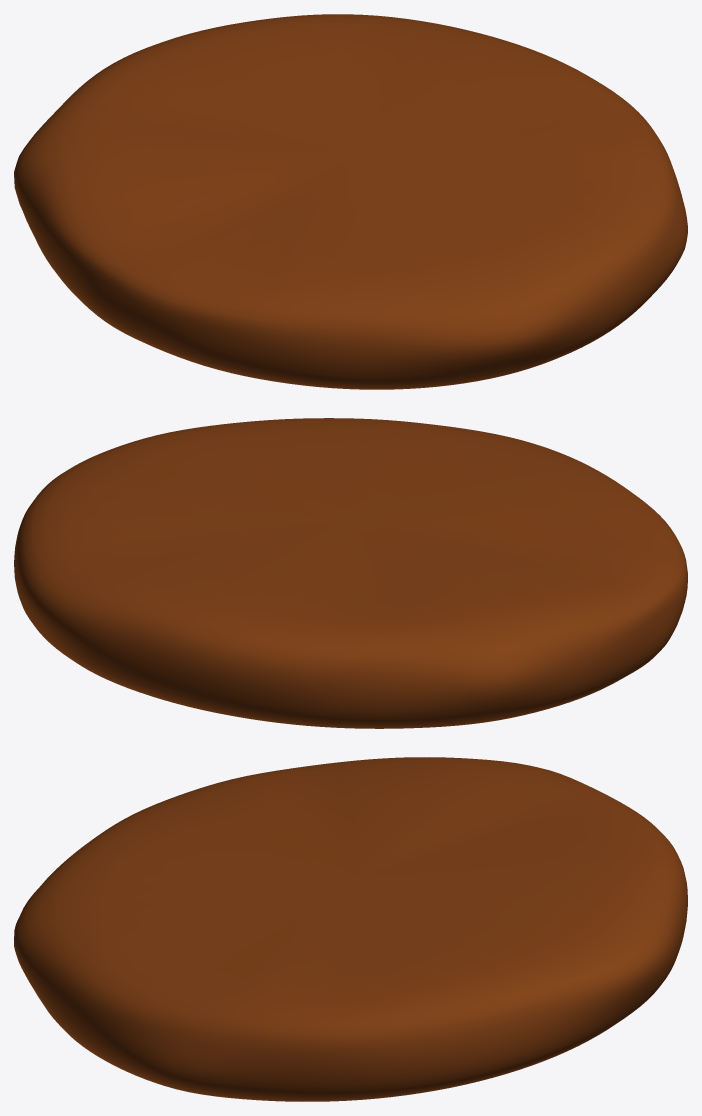
The model's file is Beef.fbx.
3 renders of one model, top to bottom at view 1: azimuth 30°, elevation 25°; view 2: azimuth 150°, elevation 25°; view 3: azimuth 270°, elevation 25°, orthographic. The views are drawn at different scales.
Parts seen in each view (by area): view 1: Kokleta; view 2: Kokleta; view 3: Kokleta.
Part boxes in pixels (x1,y1,x2,y2): Kokleta: (14, 14, 687, 389); Kokleta: (14, 418, 687, 728); Kokleta: (14, 757, 687, 1101).
Size of the model in its own units: 212 by 48.76 by 217.
